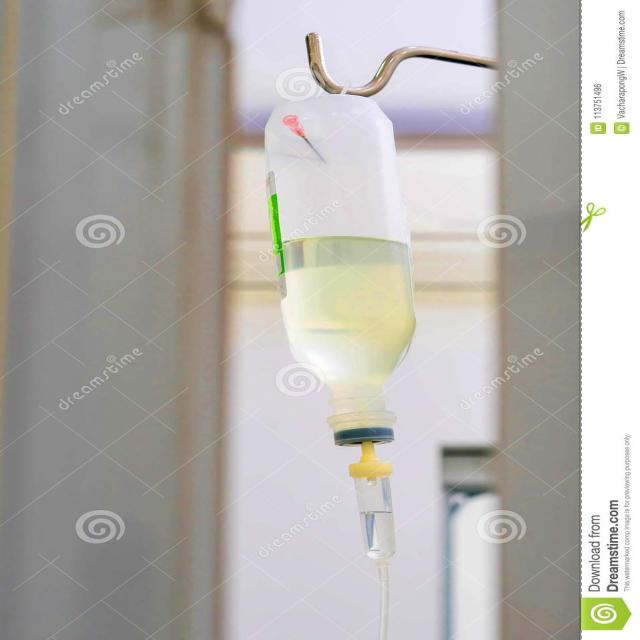B3: (256, 89, 428, 457)
